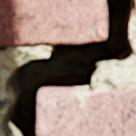brick: (0, 0, 105, 46), (37, 89, 135, 135)
crack: (1, 0, 134, 135)
